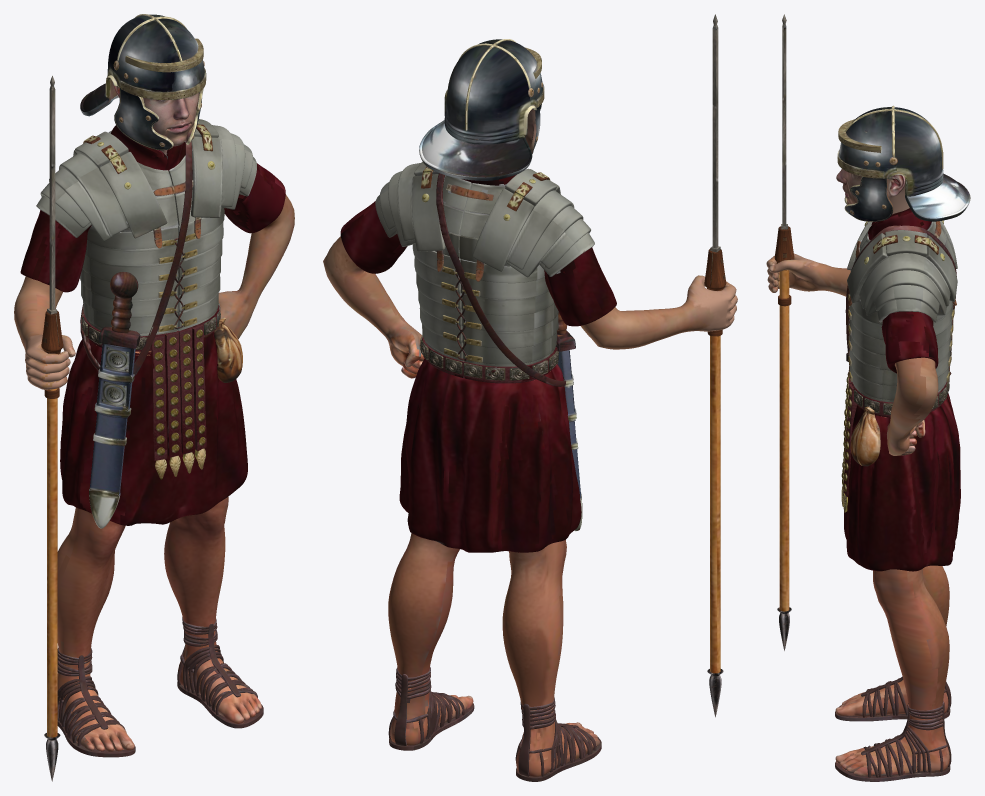
The model's file is soldato_romano.glb.
3 views of the same model, side by side, from view 1: azimuth 30°, elevation 25°; view 2: azimuth 150°, elevation 25°; view 3: azimuth 270°, elevation 25° (orthographic). The views are drawn at different scales.
Parts seen in each view (by area): view 1: Object_3, Object_11, Object_14, Object_2, Object_7, Object_6, Object_13, Object_12, Object_10, Object_4, Object_8, Object_9; view 2: Object_11, Object_3, Object_14, Object_2, Object_13, Object_12, Object_7, Object_6, Object_4, Object_15, Object_8; view 3: Object_11, Object_14, Object_3, Object_2, Object_13, Object_12, Object_6, Object_9, Object_10, Object_8, Object_4, Object_15 (+1 smaller).
Part boxes in pixels (x1,y1,x2,y2): Object_3: (36, 119, 256, 336); Object_11: (20, 125, 285, 525); Object_14: (14, 194, 294, 756); Object_2: (80, 14, 206, 150); Object_7: (80, 140, 192, 528); Object_6: (81, 116, 220, 479); Object_13: (57, 617, 263, 757); Object_12: (47, 313, 57, 737); Object_10: (113, 63, 198, 155); Object_4: (49, 86, 55, 310); Object_8: (41, 75, 63, 781); Object_9: (214, 317, 242, 382); Object_11: (340, 174, 616, 552); Object_3: (375, 161, 594, 366); Object_14: (323, 229, 737, 776); Object_2: (419, 39, 544, 180); Object_13: (388, 667, 601, 781); Object_12: (710, 252, 720, 673); Object_7: (436, 173, 582, 531); Object_6: (420, 335, 558, 383); Object_4: (712, 25, 718, 248); Object_15: (375, 184, 597, 757); Object_8: (704, 14, 726, 717); Object_11: (844, 208, 960, 571); Object_14: (766, 253, 953, 778); Object_3: (847, 220, 957, 402); Object_2: (837, 105, 970, 221); Object_13: (835, 676, 951, 781); Object_12: (779, 270, 789, 611); Object_6: (837, 180, 949, 512); Object_9: (850, 406, 880, 466); Object_10: (836, 169, 909, 214); Object_8: (774, 14, 794, 650); Object_4: (782, 24, 786, 226); Object_15: (770, 222, 949, 775).
Bounding box in the file's own units: 1.43 × 2.94 × 0.8276.
13 materials, 13 textured.
